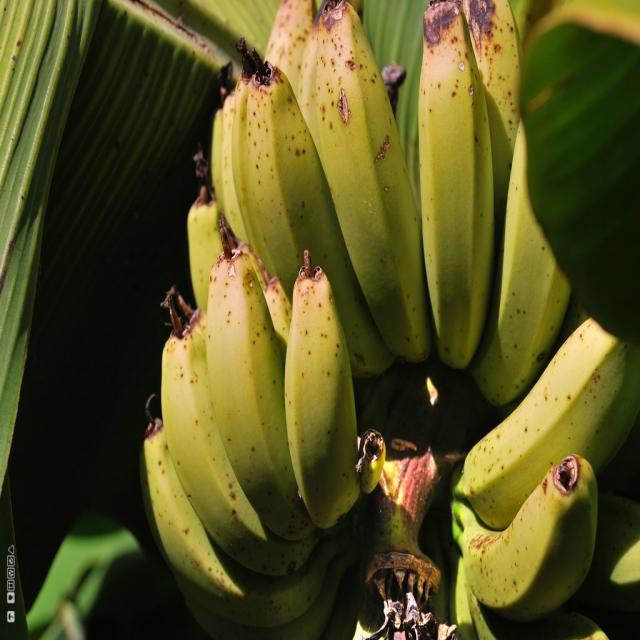Banana: (117, 21, 628, 607)
